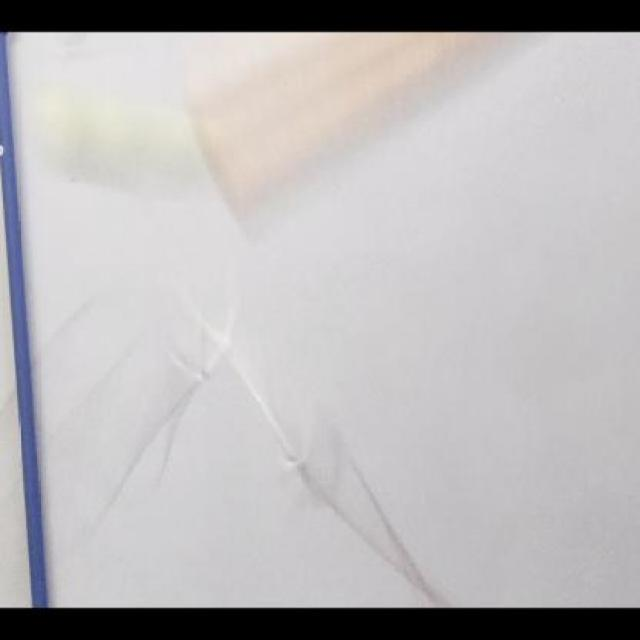baseball: (54, 100, 192, 208)
